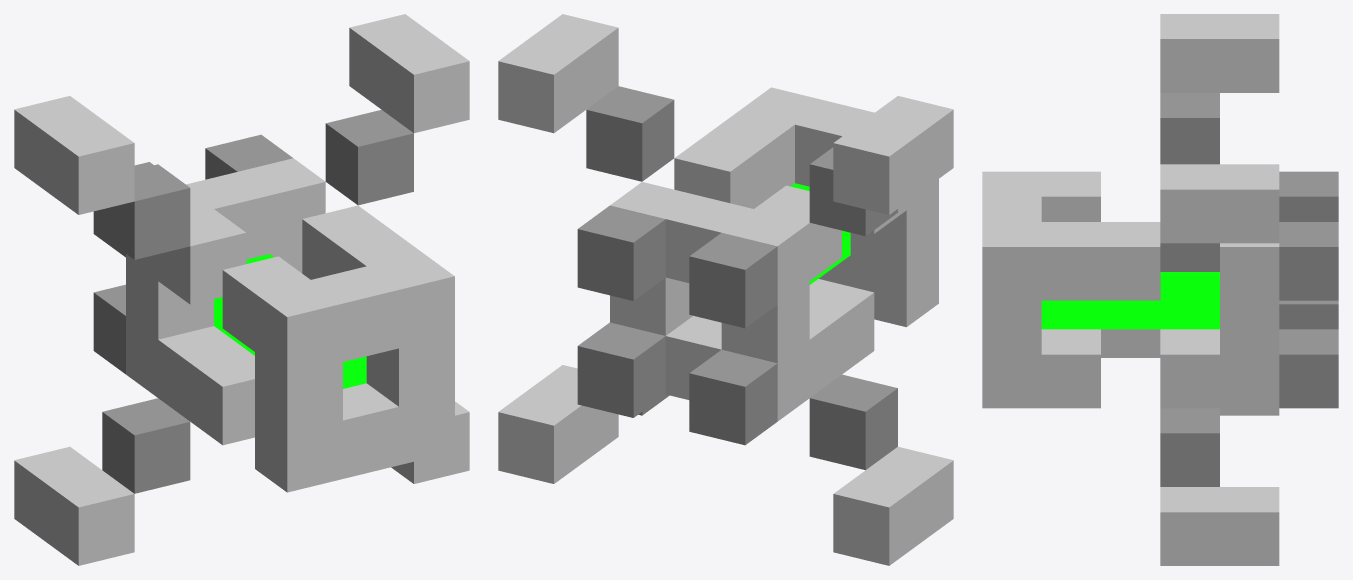
The model's file is monolith_drone.glb.
3 renders of one model, left to right at view 1: azimuth 30°, elevation 25°; view 2: azimuth 150°, elevation 25°; view 3: azimuth 270°, elevation 25°, orthographic. The views are drawn at different scales.
Parts seen in each view (by area): view 1: main; view 2: main; view 3: main.
Boxes of the visible parts, bbox=[...] form: main: bbox=[14, 14, 469, 565]; main: bbox=[498, 14, 953, 565]; main: bbox=[982, 14, 1338, 565].
Size of the model in its own units: 7 by 7 by 6.
